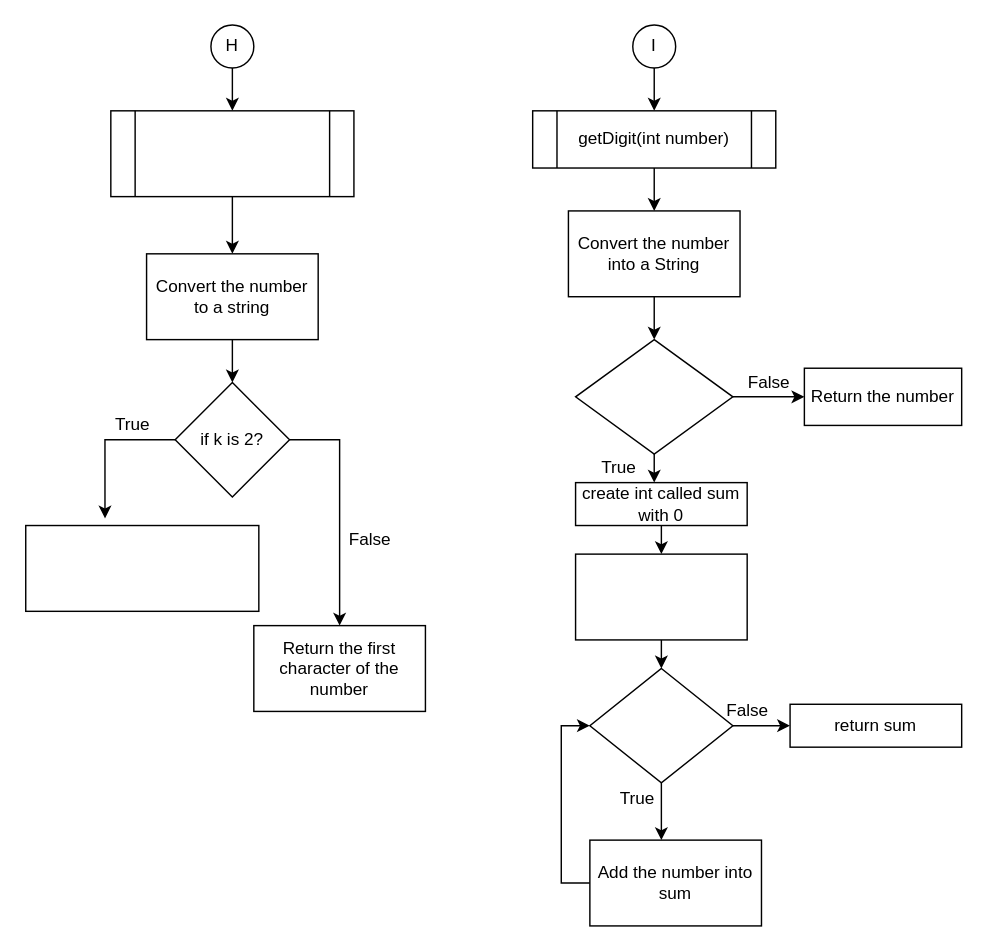
The diagram is 987 pixels wide and 951 high, and some of its shapes have lost their labels. The centre of each missing label's shape, as x and y in pixels:
"Any elements left in array?" belongs at pixel 660 725.
"getPrefix(long number, int k)" belongs at pixel 231 153.
"if length is 2?" belongs at pixel 653 396.
"Return the contcatination of first character and second character of the number" belongs at pixel 141 567.
"Split the string and put into an array" belongs at pixel 660 596.
